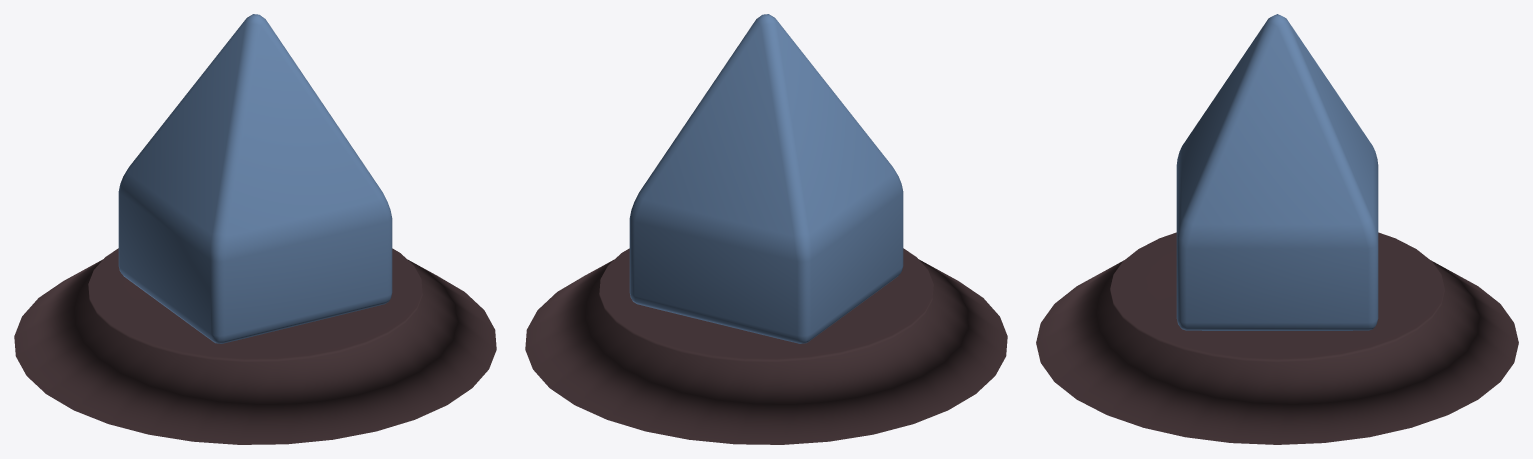
Rendered from CristalVida.fbx.
The picture shows the model from 3 angles, left to right: view 1: azimuth 30°, elevation 25°; view 2: azimuth 150°, elevation 25°; view 3: azimuth 270°, elevation 25°; orthographic projection.
Visible parts, largest first — view 1: Cristal, Cylinder; view 2: Cristal, Cylinder; view 3: Cylinder, Cristal.
Boxes of the visible parts, x1,y1,x2,y2 form: Cristal: (118,14,392,343); Cylinder: (14,248,496,444); Cristal: (629,14,903,343); Cylinder: (525,248,1007,444); Cylinder: (1036,232,1518,444); Cristal: (1176,14,1378,330).
Bounding box in the file's own units: 2.89 × 2.16 × 2.89.
